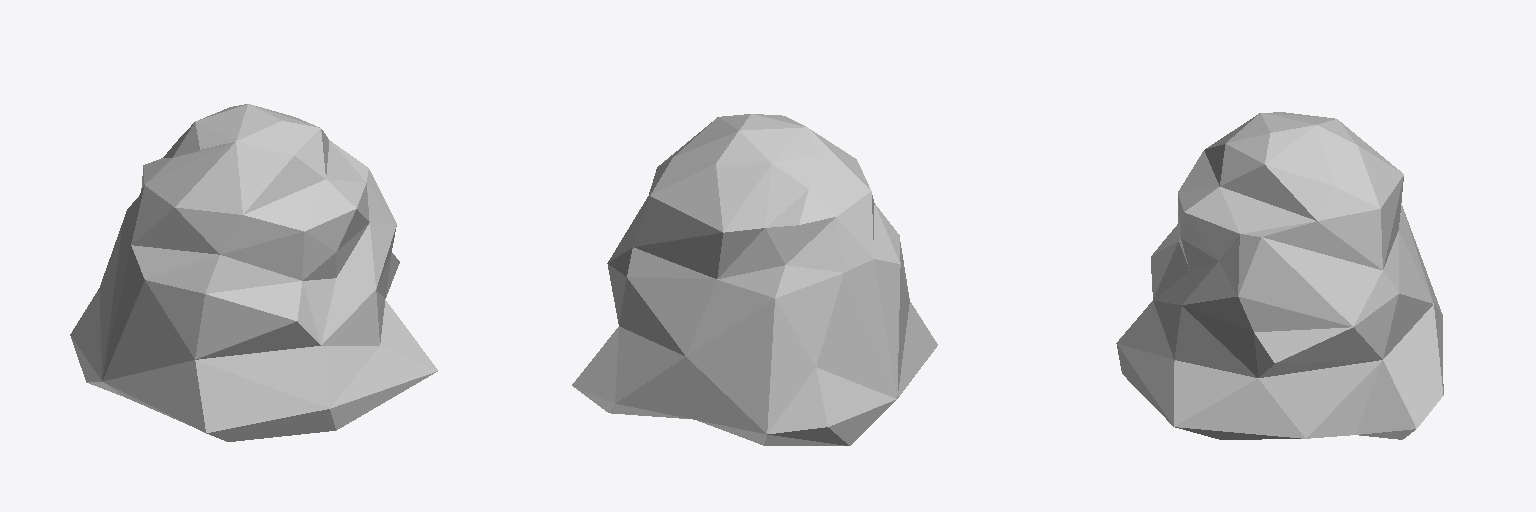
File: Rock2.obj
3 renders of one model, left to right at view 1: azimuth 30°, elevation 25°; view 2: azimuth 150°, elevation 25°; view 3: azimuth 270°, elevation 25°, orthographic.
Parts seen in each view (by area): view 1: Sphere; view 2: Sphere; view 3: Sphere.
Part boxes in pixels (x1,y1,x2,y2): Sphere: (70, 104, 437, 441); Sphere: (572, 114, 937, 445); Sphere: (1116, 112, 1443, 439).
Size of the model in its own units: 3.02 by 2.78 by 3.02.